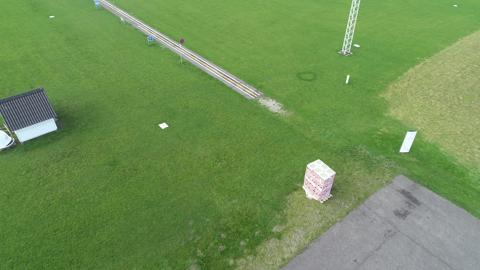RockwoolPallet: (303, 159, 336, 201)
